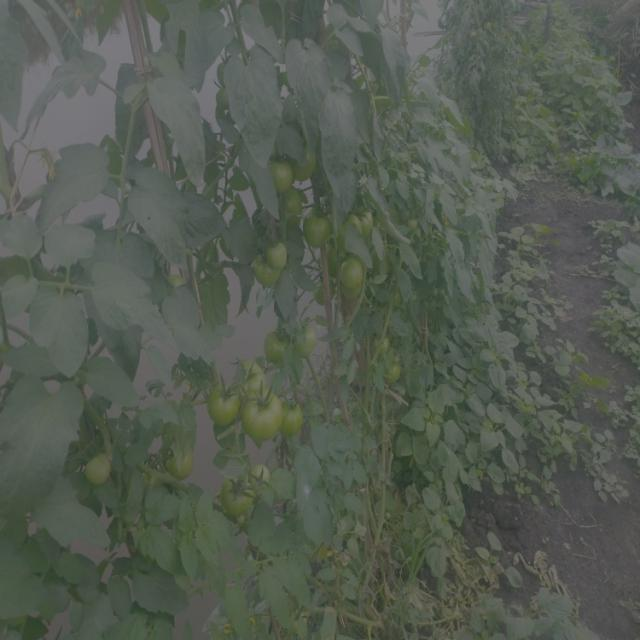tomato: (161, 438, 201, 484), (244, 394, 280, 445), (208, 385, 242, 430), (83, 451, 118, 493), (302, 212, 337, 251), (260, 329, 296, 365), (282, 400, 310, 445), (295, 143, 323, 185), (224, 480, 254, 519), (348, 203, 378, 238), (262, 239, 296, 269), (267, 157, 296, 191), (295, 323, 320, 359), (278, 190, 303, 224), (341, 259, 366, 293), (240, 361, 268, 390), (252, 257, 282, 284), (379, 359, 405, 389), (251, 464, 273, 489), (374, 336, 395, 355)
